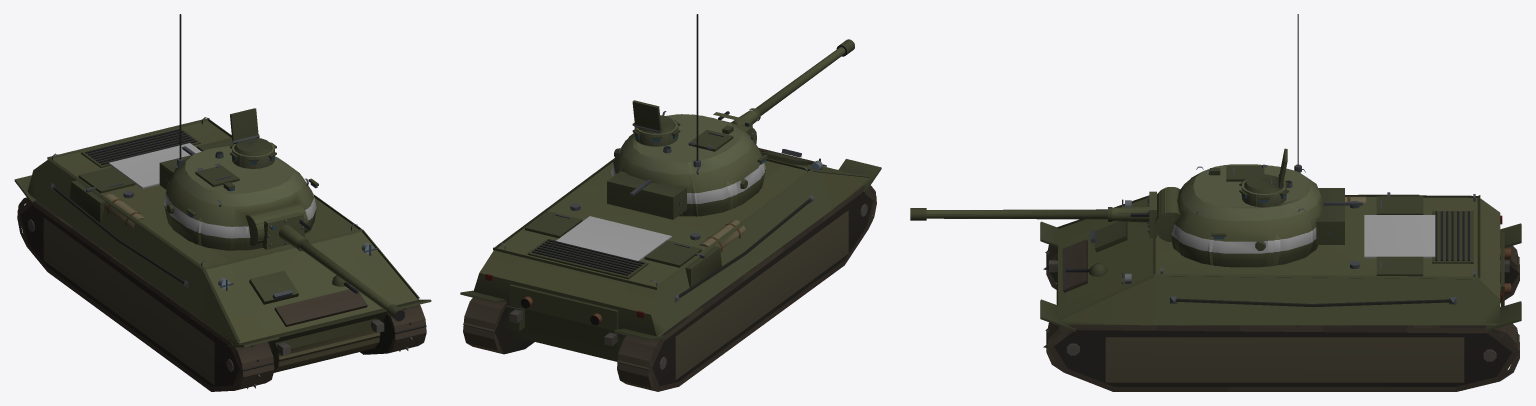
The model's file is tank_ww2_medium.glb.
The picture shows the model from 3 angles, left to right: view 1: azimuth 30°, elevation 25°; view 2: azimuth 150°, elevation 25°; view 3: azimuth 270°, elevation 25°; orthographic projection. The views are drawn at different scales.
Visible parts, largest first — view 1: tank_ww2_medium_LOD0_mesh, tank_ww2_medium_LOD2_mesh, tank_ww2_medium_LOD1_mesh, tank_ww2_medium_LOD0_turret_mesh, tank_ww2_medium_LOD2_turret_mesh, tank_ww2_medium_LOD0_gun_mesh, tank_ww2_medium_LOD1_turret_mesh, tank_ww2_medium_LOD1_gun_mesh; view 2: tank_ww2_medium_LOD0_mesh, tank_ww2_medium_LOD2_mesh, tank_ww2_medium_LOD1_mesh, tank_ww2_medium_LOD0_turret_mesh, tank_ww2_medium_LOD2_turret_mesh, tank_ww2_medium_LOD0_gun_mesh, tank_ww2_medium_LOD1_turret_mesh; view 3: tank_ww2_medium_LOD0_mesh, tank_ww2_medium_LOD2_mesh, tank_ww2_medium_LOD1_mesh, tank_ww2_medium_LOD0_turret_mesh, tank_ww2_medium_LOD0_gun_mesh, tank_ww2_medium_LOD2_turret_mesh, tank_ww2_medium_LOD1_turret_mesh.
Boxes of the visible parts, left/top/right/bottom form: tank_ww2_medium_LOD0_mesh: left=14, top=117, right=429, bottom=390; tank_ww2_medium_LOD2_mesh: left=21, top=200, right=426, bottom=386; tank_ww2_medium_LOD1_mesh: left=17, top=128, right=431, bottom=391; tank_ww2_medium_LOD0_turret_mesh: left=162, top=14, right=318, bottom=250; tank_ww2_medium_LOD2_turret_mesh: left=159, top=146, right=315, bottom=250; tank_ww2_medium_LOD0_gun_mesh: left=246, top=203, right=404, bottom=321; tank_ww2_medium_LOD1_turret_mesh: left=167, top=144, right=312, bottom=250; tank_ww2_medium_LOD1_gun_mesh: left=247, top=203, right=404, bottom=321; tank_ww2_medium_LOD0_mesh: left=460, top=148, right=881, bottom=391; tank_ww2_medium_LOD2_mesh: left=463, top=158, right=873, bottom=386; tank_ww2_medium_LOD1_mesh: left=463, top=166, right=876, bottom=391; tank_ww2_medium_LOD0_turret_mesh: left=609, top=14, right=767, bottom=216; tank_ww2_medium_LOD2_turret_mesh: left=607, top=114, right=764, bottom=219; tank_ww2_medium_LOD0_gun_mesh: left=713, top=39, right=854, bottom=144; tank_ww2_medium_LOD1_turret_mesh: left=616, top=114, right=763, bottom=216; tank_ww2_medium_LOD0_mesh: left=1040, top=192, right=1521, bottom=380; tank_ww2_medium_LOD2_mesh: left=1046, top=214, right=1519, bottom=386; tank_ww2_medium_LOD1_mesh: left=1040, top=203, right=1519, bottom=391; tank_ww2_medium_LOD0_turret_mesh: left=1171, top=14, right=1362, bottom=267; tank_ww2_medium_LOD0_gun_mesh: left=910, top=187, right=1180, bottom=241; tank_ww2_medium_LOD2_turret_mesh: left=1172, top=165, right=1344, bottom=265; tank_ww2_medium_LOD1_turret_mesh: left=1179, top=165, right=1313, bottom=266.
Size of the model in its own units: 3 by 4.58 by 8.1.
